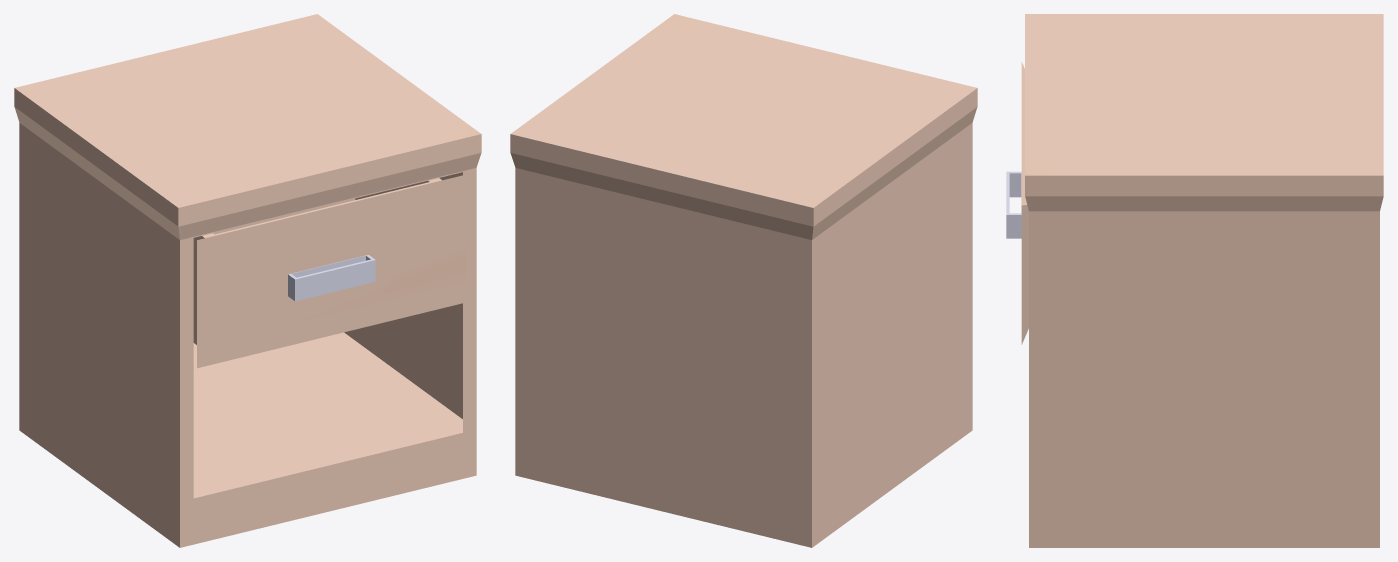
Rendered from Velador.fbx.
3 renders of one model, left to right at view 1: azimuth 30°, elevation 25°; view 2: azimuth 150°, elevation 25°; view 3: azimuth 270°, elevation 25°, orthographic. The views are drawn at different scales.
Visible parts, largest first — view 1: Velador; view 2: Velador; view 3: Velador.
Part boxes in pixels (x1,y1,x2,y2): Velador: [14, 14, 481, 547]; Velador: [510, 14, 977, 547]; Velador: [1006, 14, 1383, 547].
Bounding box in the file's own units: 155 × 167 × 153.
Materials: 1 (1 with a texture image).
